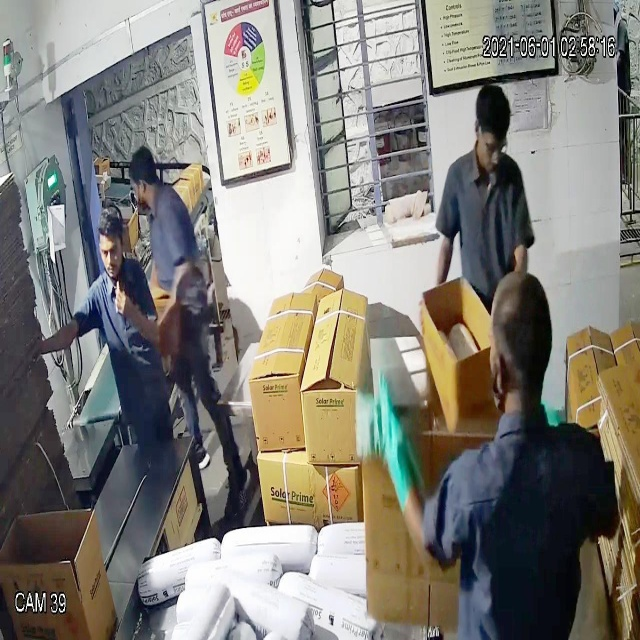Sin_gafas: (93, 233, 128, 268)
